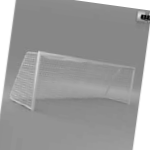goals: (8, 50, 136, 112)
